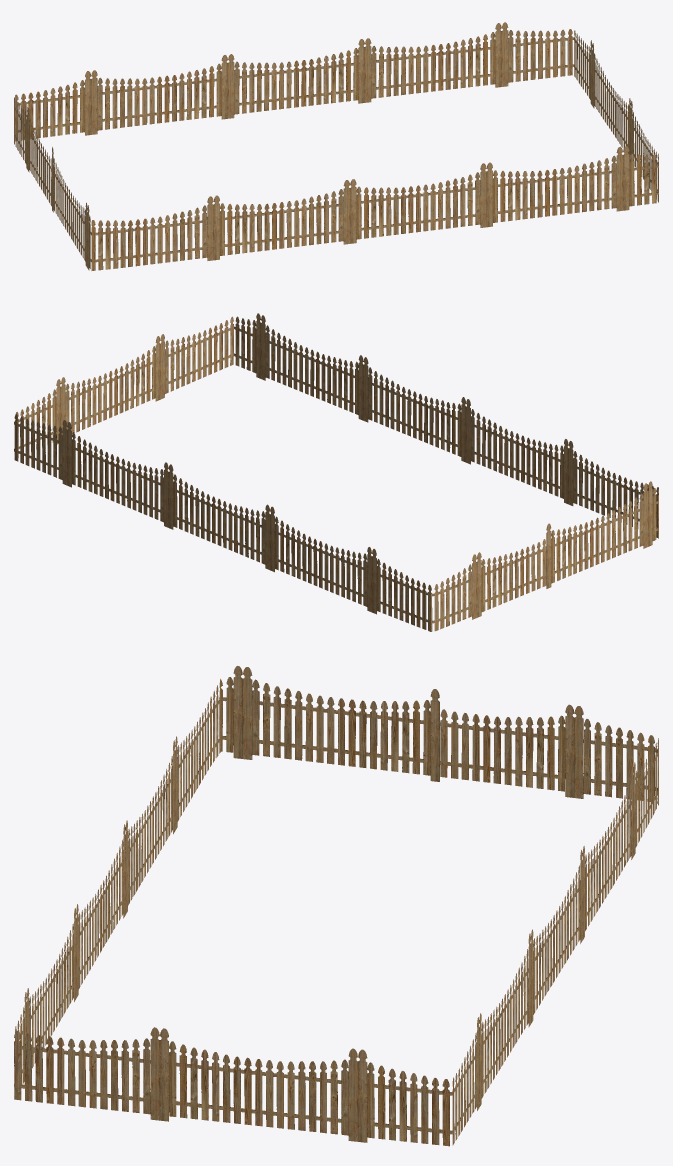
Rendered from fence_50_31_0040507_9.dae.
3 renders of one model, top to bottom at view 1: azimuth 30°, elevation 25°; view 2: azimuth 150°, elevation 25°; view 3: azimuth 270°, elevation 25°, orthographic. The views are drawn at different scales.
Visible parts, largest first — view 1: MainNode; view 2: MainNode; view 3: MainNode.
Part boxes in pixels (x1,y1,x2,y2): MainNode: (14, 22, 658, 270); MainNode: (14, 313, 658, 631); MainNode: (14, 666, 658, 1146).
Size of the model in its own units: 13.72 by 9.47 by 1.5.
1 material, 1 textured.
